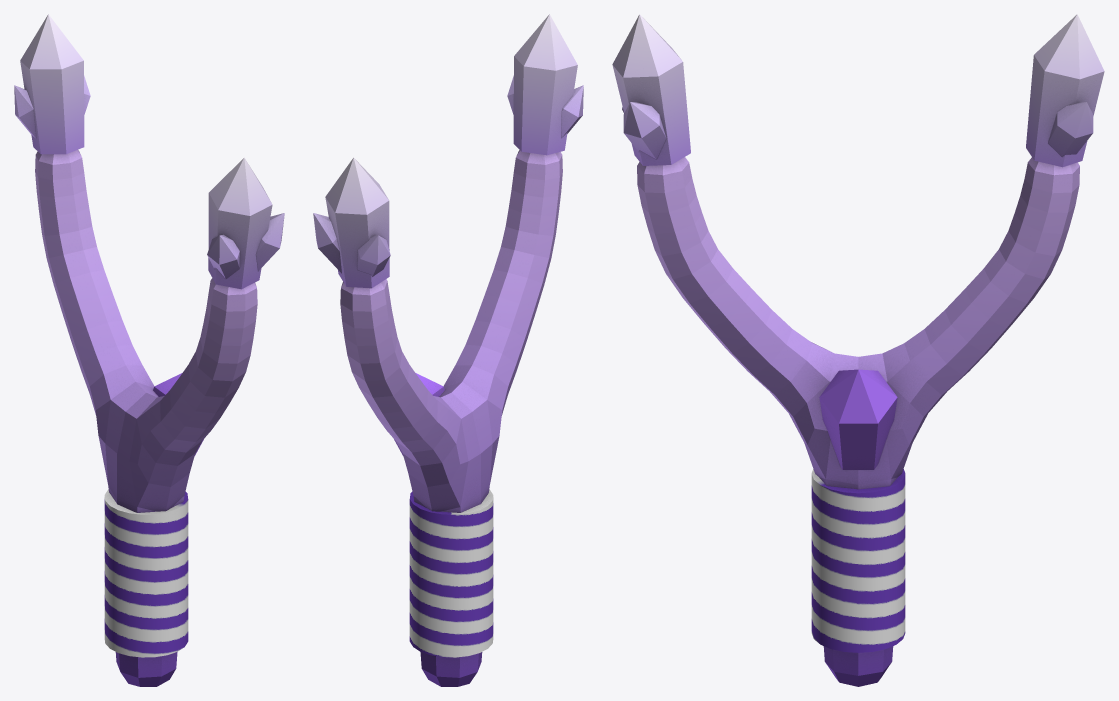
The model's file is Crystal Slingshot.fbx.
The picture shows the model from 3 angles, left to right: view 1: azimuth 30°, elevation 25°; view 2: azimuth 150°, elevation 25°; view 3: azimuth 270°, elevation 25°; orthographic projection. The views are drawn at different scales.
Parts seen in each view (by area): view 1: Crystal Slingshot; view 2: Crystal Slingshot; view 3: Crystal Slingshot.
Boxes of the visible parts, x1,y1,x2,y2 form: Crystal Slingshot: [14, 14, 284, 686]; Crystal Slingshot: [313, 14, 583, 686]; Crystal Slingshot: [612, 14, 1104, 686].
Bounding box in the file's own units: 2.64 × 15.08 × 10.06.
Materials: 1 (1 with a texture image).
